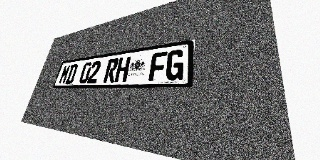0: (78, 62, 93, 84)
2: (87, 60, 102, 83)
D: (65, 64, 78, 84)
F: (148, 51, 167, 81)
G: (165, 49, 185, 80)
H: (114, 56, 131, 82)
M: (58, 65, 71, 84)
R: (103, 58, 119, 83)
